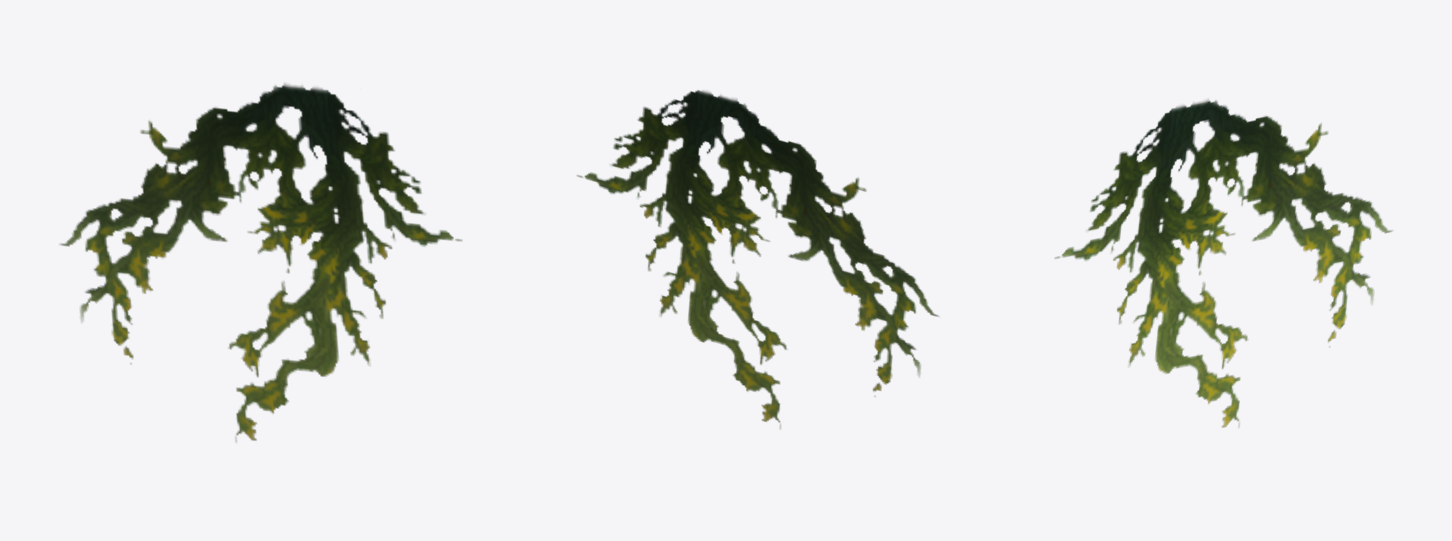
File: TheOctagon_Floor_0_Moss_1.gltf
3 renders of one model, left to right at view 1: azimuth 30°, elevation 25°; view 2: azimuth 210°, elevation 25°; view 3: azimuth 270°, elevation 25°, orthographic. The views are drawn at different scales.
Visible parts, largest first — view 1: TheOctagon_Floor_0_Moss_1; view 2: TheOctagon_Floor_0_Moss_1; view 3: TheOctagon_Floor_0_Moss_1.
Boxes of the visible parts, x1=… form: TheOctagon_Floor_0_Moss_1: x1=60, y1=83, x2=461, y2=442; TheOctagon_Floor_0_Moss_1: x1=577, y1=90, x2=938, y2=428; TheOctagon_Floor_0_Moss_1: x1=1054, y1=98, x2=1392, y2=427.
Size of the model in its own units: 1.87 by 3.33 by 2.76.
1 material, 1 textured.
